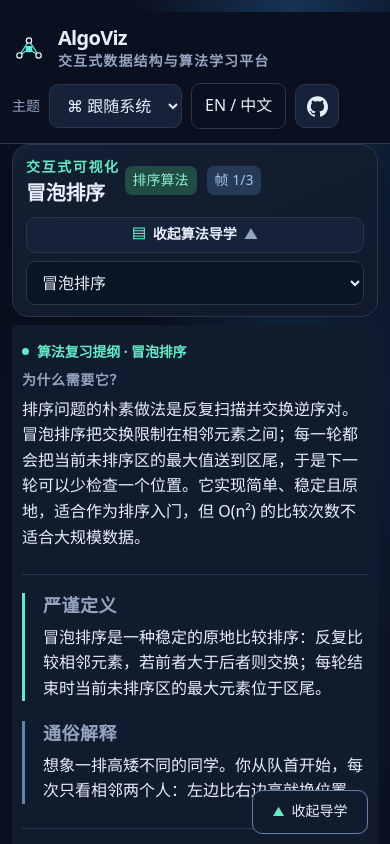
UX-03 textbook directory does not touch learning state › opens a concept topic from the mobile directory selector
Select "抽象数据类型（ADT）" in the dropdown with test id "mobile-algo-select": (195, 283) [26,261,364,305]
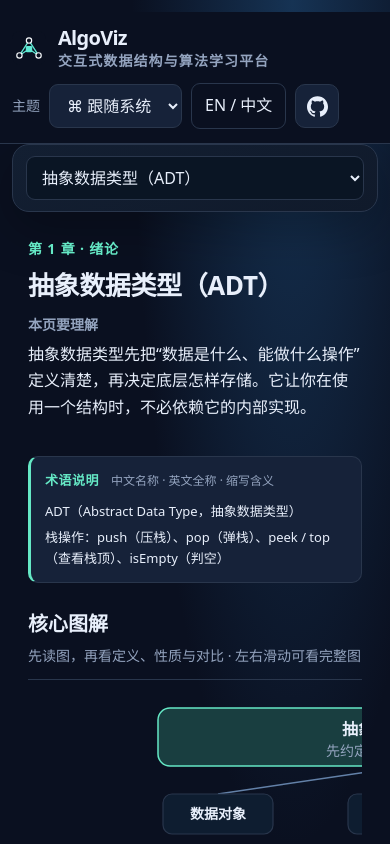
Now the heading with test id "concept-title" shows "抽象数据类型", box [28,267,283,303]
Select "插入排序" in the dropdown with test id "mobile-algo-select": (195, 178) [26,156,364,200]
(page scrolled)
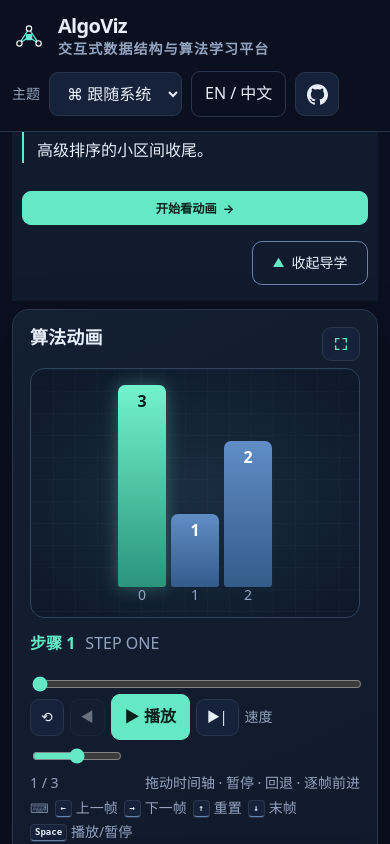
Now the element with test id "visual-stage" is shown, box [30,368,360,618]
